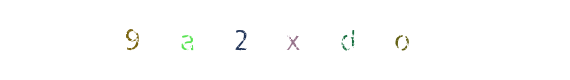2: (217, 0, 297, 80)
9: (147, 0, 227, 80)
A: (194, 0, 274, 80)
D: (244, 0, 324, 80)
O: (245, 0, 325, 80)
X: (238, 0, 318, 80)
